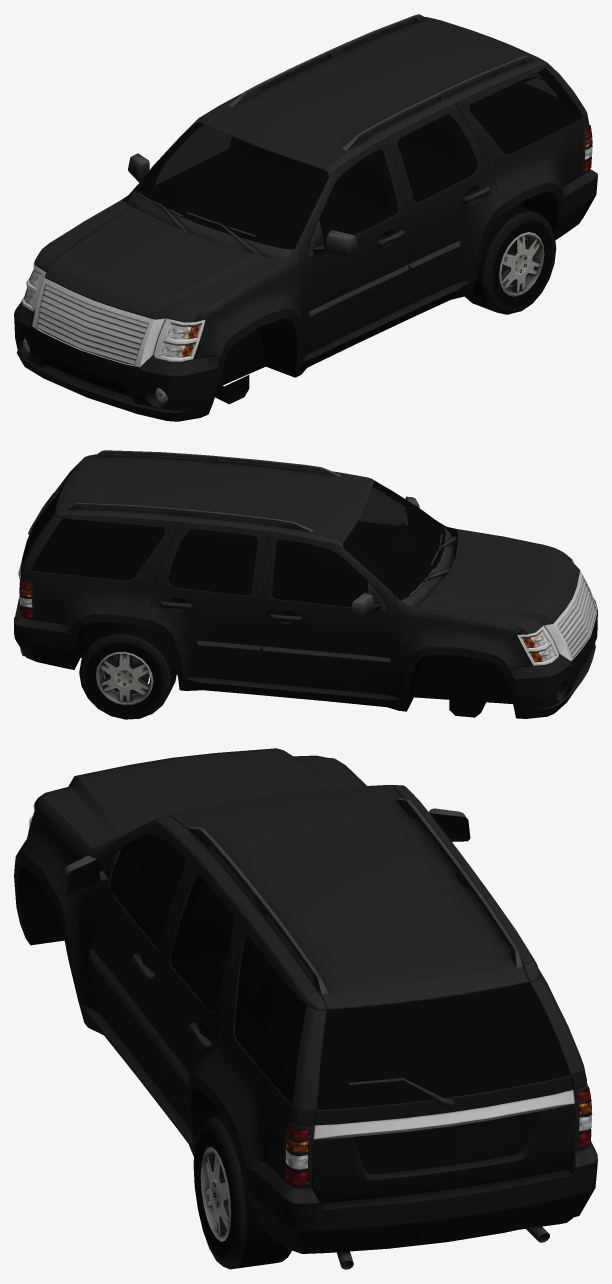
The model's file is pack_suv.glb.
3 views of the same model, one above another, from view 1: azimuth 30°, elevation 25°; view 2: azimuth 150°, elevation 25°; view 3: azimuth 270°, elevation 25° (orthographic). The views are drawn at different scales.
Visible parts, largest first — view 1: SUV Body_Body_0, SUV Body_Glass_0, Wheel_E001_Wheel_0, SUV Body_Optics_0; view 2: SUV Body_Body_0, SUV Body_Glass_0, Wheel_E001_Wheel_0, SUV Body_Optics_0; view 3: SUV Body_Body_0, SUV Body_Glass_0, Wheel_E001_Wheel_0, SUV Body_Optics_0.
Part boxes in pixels (bbox=[...]): SUV Body_Body_0: bbox=[14, 14, 597, 421]; SUV Body_Glass_0: bbox=[134, 68, 583, 249]; Wheel_E001_Wheel_0: bbox=[465, 205, 556, 314]; SUV Body_Optics_0: bbox=[23, 125, 592, 402]; SUV Body_Body_0: bbox=[14, 450, 597, 718]; SUV Body_Glass_0: bbox=[22, 465, 445, 607]; Wheel_E001_Wheel_0: bbox=[79, 622, 176, 719]; SUV Body_Optics_0: bbox=[19, 578, 554, 662]; SUV Body_Body_0: bbox=[14, 748, 597, 1269]; SUV Body_Glass_0: bbox=[109, 817, 570, 1109]; Wheel_E001_Wheel_0: bbox=[193, 1116, 572, 1269]; SUV Body_Optics_0: bbox=[285, 1084, 592, 1186].
Bounding box in the file's own units: 4.65 × 1.73 × 2.84.
Materials: 4 (3 with a texture image).
